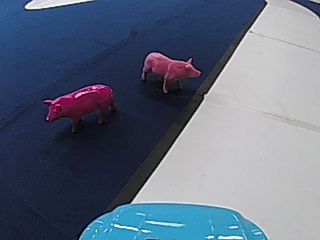pig: (40, 80, 116, 131), (138, 49, 201, 92)
